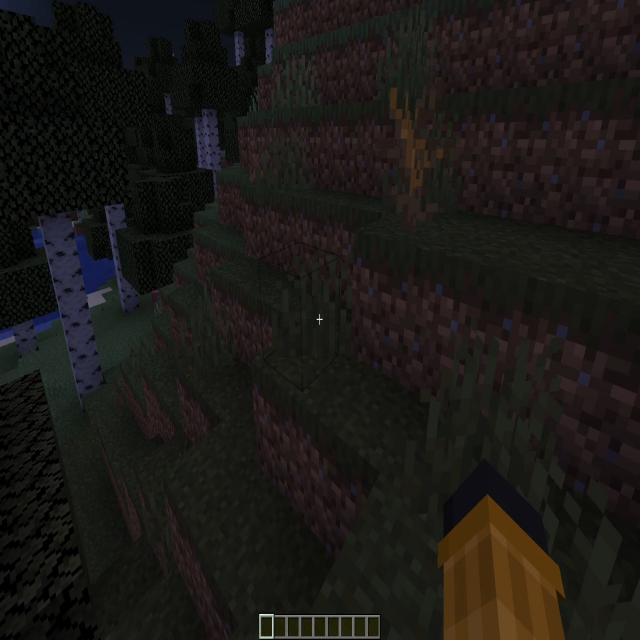Pig: (152, 290, 160, 308)
